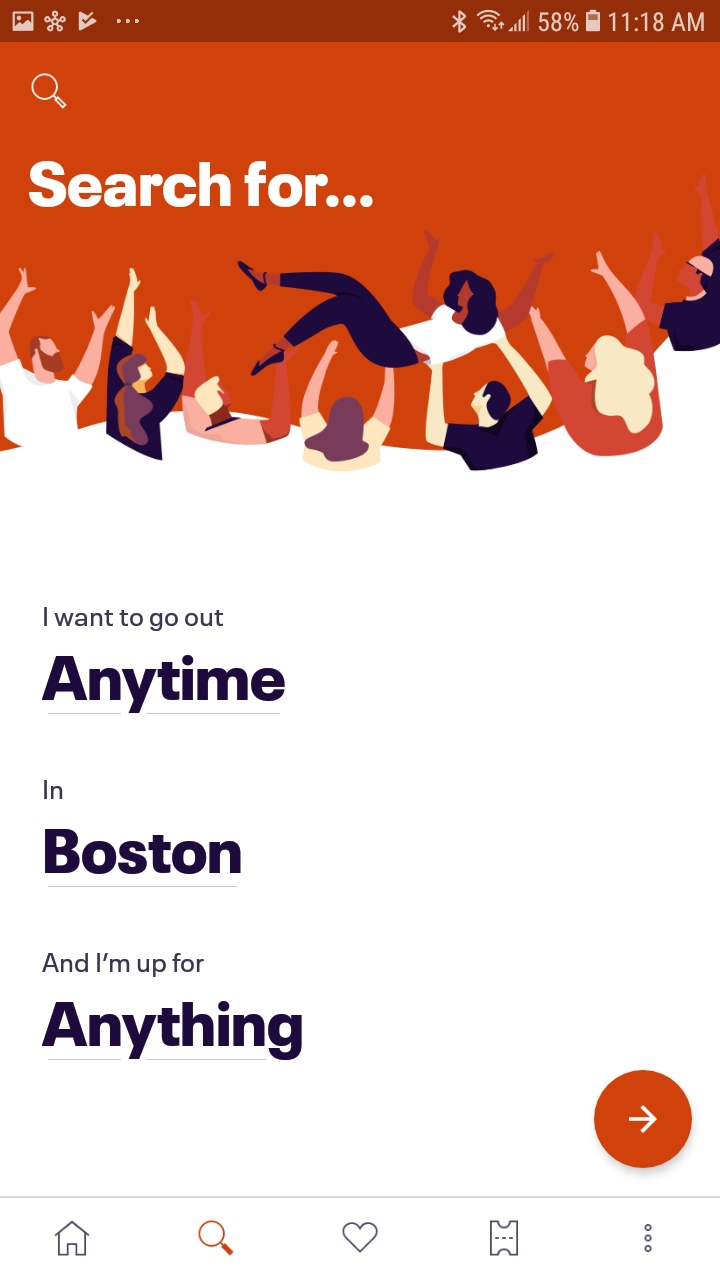Icon: (593, 1069, 693, 1169), (31, 73, 68, 110), (199, 1219, 235, 1256), (55, 1220, 91, 1256), (343, 1221, 379, 1253), (490, 1220, 519, 1257), (644, 1223, 653, 1253)
Image: (1, 43, 720, 471)
Text: (29, 161, 373, 209), (42, 1000, 303, 1061), (42, 655, 286, 715), (45, 829, 241, 875), (44, 607, 224, 632), (42, 952, 205, 978), (44, 779, 64, 800)
UpperTaskBar: (1, 1, 720, 43)
